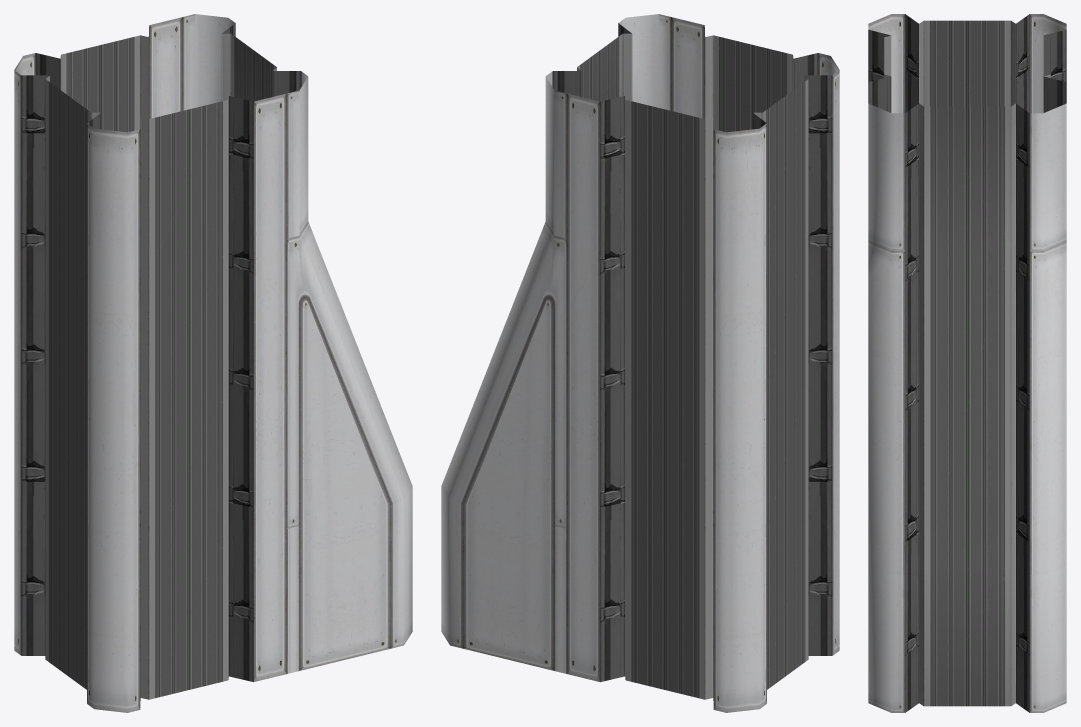
The model's file is CeilingBrace_AngleC.FBX.
3 views of the same model, side by side, from view 1: azimuth 30°, elevation 25°; view 2: azimuth 150°, elevation 25°; view 3: azimuth 270°, elevation 25° (orthographic). The views are drawn at different scales.
Parts seen in each view (by area): view 1: CeilingBrace_AngleC; view 2: CeilingBrace_AngleC; view 3: CeilingBrace_AngleC.
Part boxes in pixels (x1=…): CeilingBrace_AngleC: x1=14, y1=14, x2=412, y2=712; CeilingBrace_AngleC: x1=441, y1=14, x2=839, y2=712; CeilingBrace_AngleC: x1=868, y1=14, x2=1066, y2=712.
Size of the model in its own units: 2.3 by 4 by 1.3.
